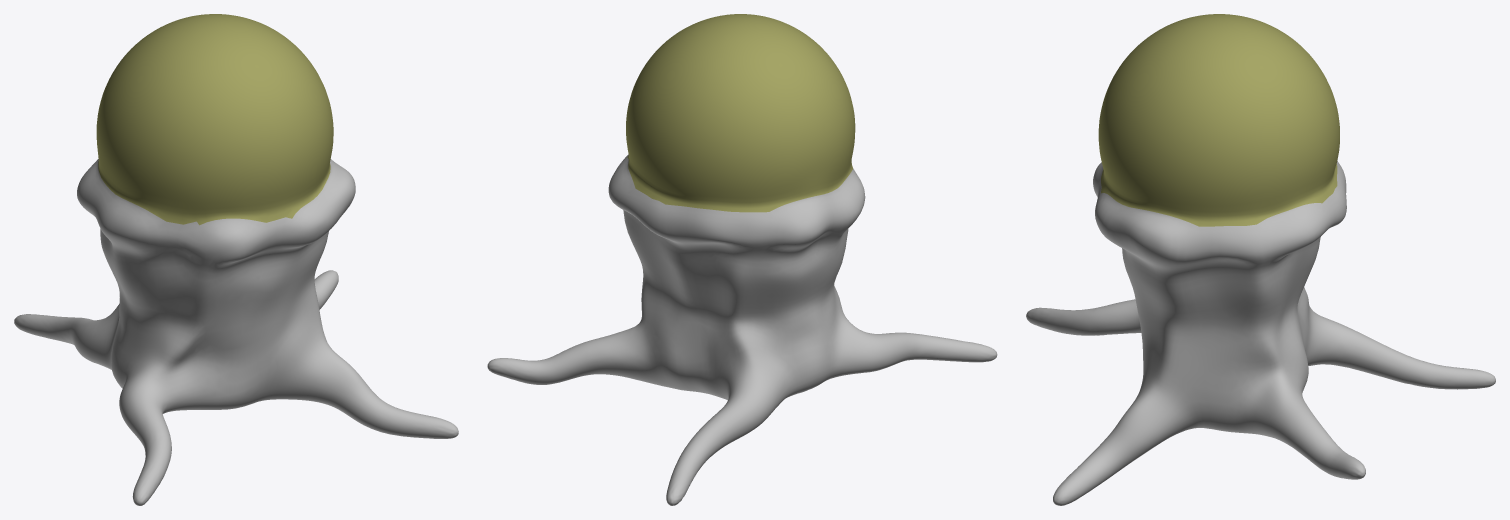
Rendered from SM_Pustule.fbx.
3 renders of one model, left to right at view 1: azimuth 30°, elevation 25°; view 2: azimuth 150°, elevation 25°; view 3: azimuth 270°, elevation 25°, orthographic. The views are drawn at different scales.
Visible parts, largest first — view 1: SM_Pustule; view 2: SM_Pustule; view 3: SM_Pustule.
Part boxes in pixels (x1,y1,x2,y2): SM_Pustule: [14, 14, 458, 505]; SM_Pustule: [487, 14, 997, 505]; SM_Pustule: [1026, 14, 1495, 505].
Bounding box in the file's own units: 55.91 × 57.98 × 61.31.
